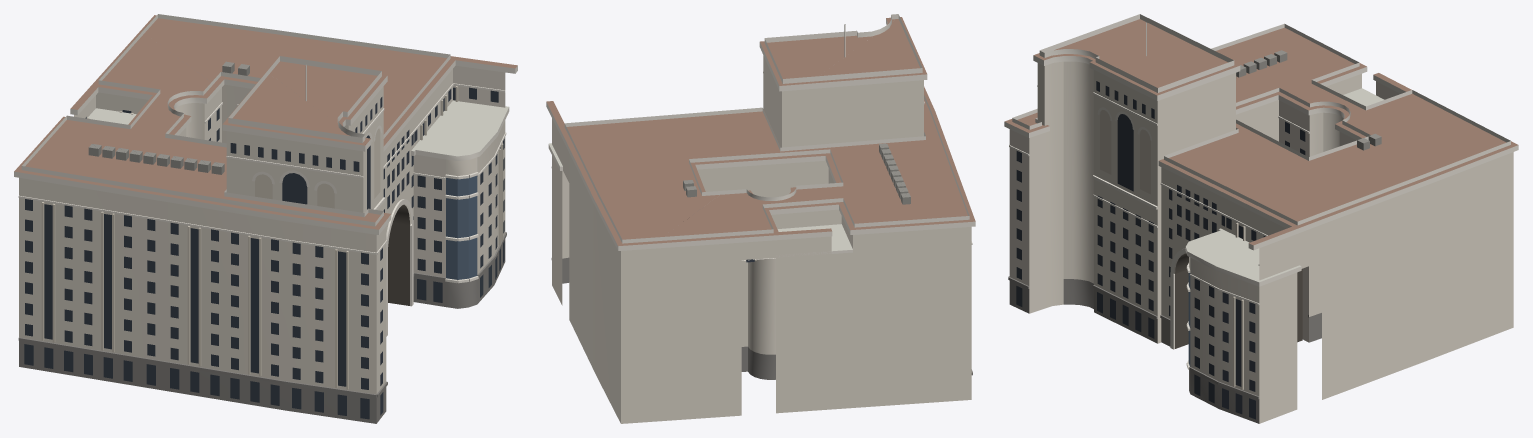
The model's file is ministry_of_foreign_affairs__tiny_yerevan.glb.
The picture shows the model from 3 angles, left to right: view 1: azimuth 30°, elevation 25°; view 2: azimuth 150°, elevation 25°; view 3: azimuth 270°, elevation 25°; orthographic projection. The views are drawn at different scales.
Parts seen in each view (by area): view 1: wall_0, roof_7, glass_4, trim_2, base_3, wall2_1, roof2_8, glass2_5, shade_6, plant_9; view 2: wall_0, roof_7, trim_2, base_3, plant_9, roof2_8; view 3: wall_0, roof_7, trim_2, glass_4, base_3, roof2_8, wall2_1, shade_6, plant_9.
Part boxes in pixels (left/top/right/bottom): wall_0: left=19, top=65, right=505, bottom=394; roof_7: left=14, top=15, right=517, bottom=229; glass_4: left=24, top=87, right=504, bottom=419; trim_2: left=14, top=14, right=517, bottom=336; base_3: left=18, top=232, right=506, bottom=423; wall2_1: left=41, top=86, right=503, bottom=389; roof2_8: left=88, top=100, right=508, bottom=156; glass2_5: left=446, top=175, right=477, bottom=279; shade_6: left=388, top=204, right=409, bottom=305; plant_9: left=88, top=61, right=249, bottom=174; wall_0: left=552, top=55, right=971, bottom=423; roof_7: left=546, top=17, right=975, bottom=245; trim_2: left=546, top=14, right=975, bottom=260; base_3: left=551, top=257, right=972, bottom=379; plant_9: left=683, top=143, right=910, bottom=204; roof2_8: left=549, top=143, right=852, bottom=251; wall_0: left=1009, top=61, right=1513, bottom=423; roof_7: left=1005, top=19, right=1517, bottom=245; trim_2: left=1004, top=14, right=1518, bottom=369; glass_4: left=1016, top=81, right=1305, bottom=419; base_3: left=1008, top=276, right=1321, bottom=423; roof2_8: left=1186, top=88, right=1384, bottom=282; wall2_1: left=1100, top=110, right=1245, bottom=389; shade_6: left=1175, top=253, right=1302, bottom=348; plant_9: left=1236, top=50, right=1381, bottom=150.
Bounding box in the file's own units: 85.37 × 51 × 83.9.
